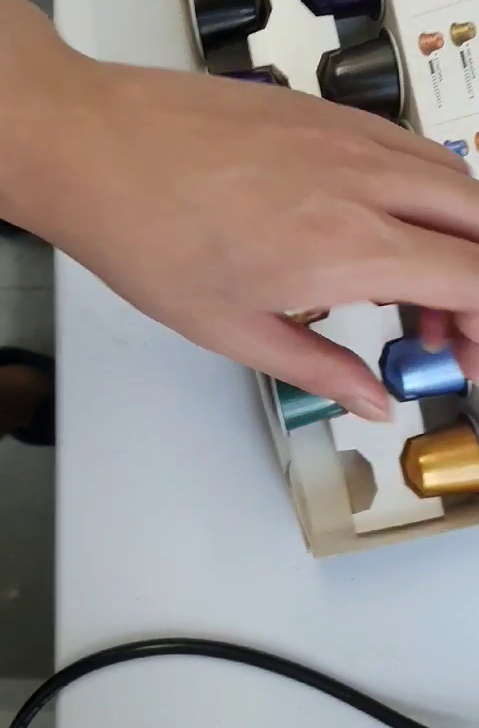capsule_8: (401, 411, 479, 508)
